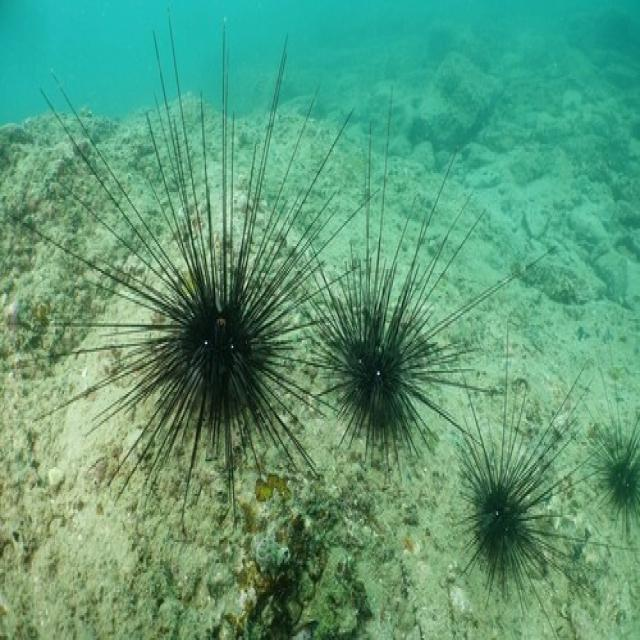Urchin: (9, 8, 338, 538), (298, 87, 483, 484), (454, 329, 600, 611), (573, 360, 640, 528)
